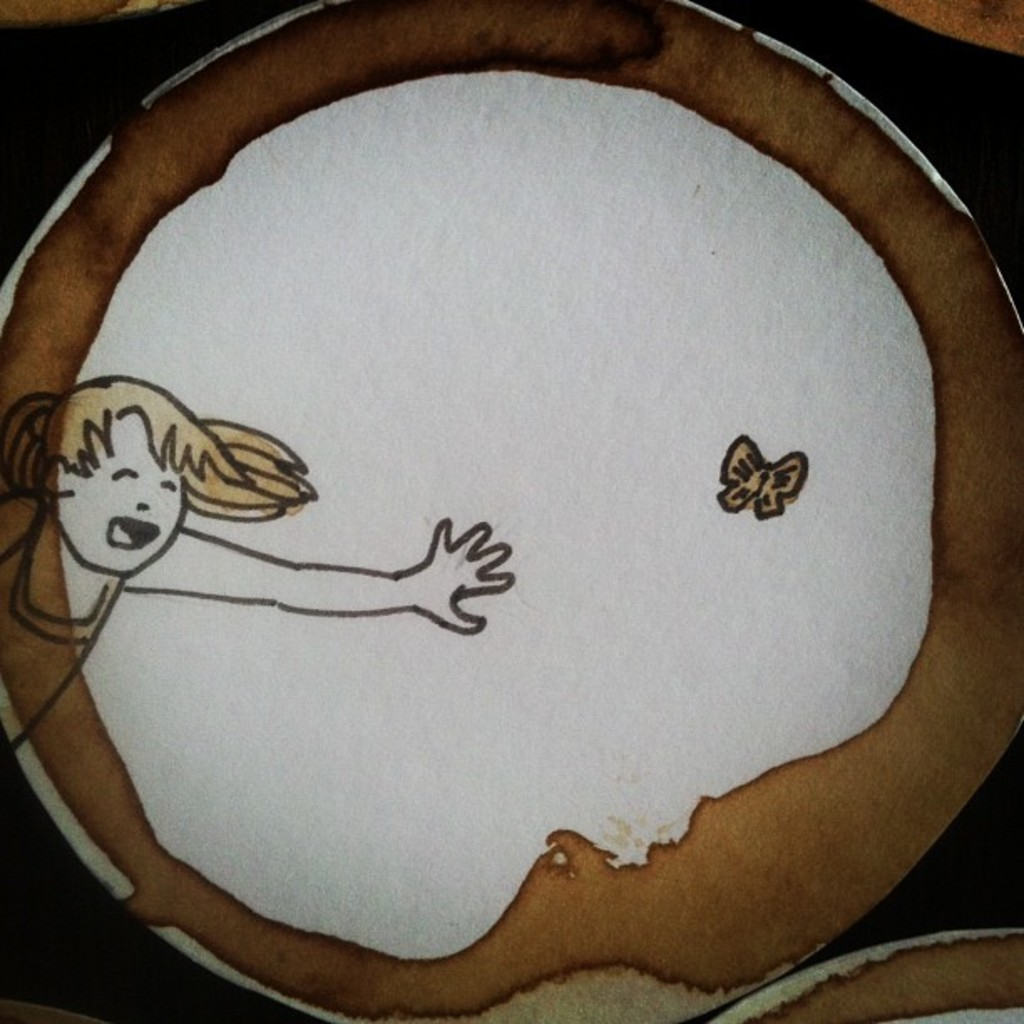plate: (0, 0, 1022, 1015)
